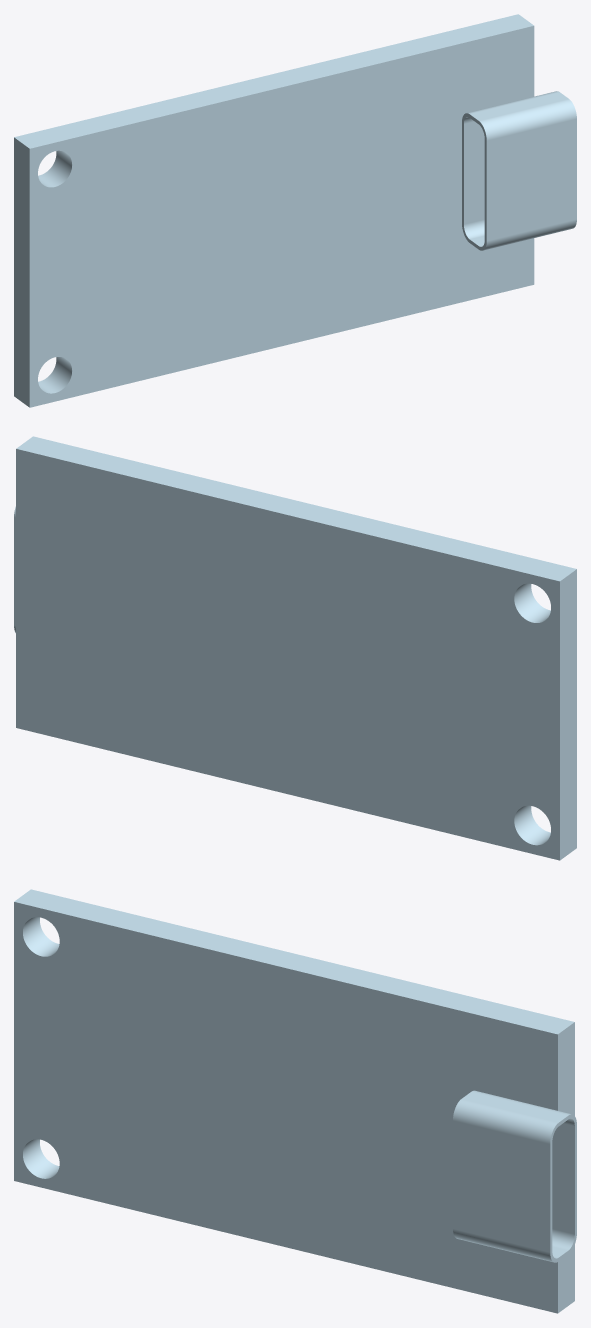
The model's file is usb_c_charger.gltf.
3 renders of one model, top to bottom at view 1: azimuth 30°, elevation 25°; view 2: azimuth 150°, elevation 25°; view 3: azimuth 330°, elevation 25°, orthographic. The views are drawn at different scales.
Parts seen in each view (by area): view 1: mesh1192, mesh1199, mesh1188, mesh1189, mesh1198, mesh1206, mesh1197, mesh1200, mesh1201, mesh1185, mesh1190; view 2: mesh1186, mesh1188, mesh1189, mesh1190, mesh1185; view 3: mesh1192, mesh1199, mesh1188, mesh1206, mesh1198, mesh1191, mesh1197, mesh1200, mesh1185, mesh1190, mesh1202.
Boxes of the visible parts, left/top/right/bottom form: mesh1192: left=29, top=26, right=534, bottom=407; mesh1199: left=486, top=119, right=576, bottom=240; mesh1188: left=14, top=14, right=533, bottom=148; mesh1189: left=14, top=137, right=29, bottom=407; mesh1198: left=479, top=99, right=576, bottom=140; mesh1206: left=464, top=121, right=484, bottom=224; mesh1197: left=470, top=92, right=568, bottom=120; mesh1200: left=483, top=219, right=576, bottom=250; mesh1201: left=462, top=113, right=486, bottom=250; mesh1185: left=38, top=150, right=71, bottom=187; mesh1190: left=38, top=357, right=71, bottom=393; mesh1186: left=16, top=449, right=559, bottom=860; mesh1188: left=16, top=436, right=576, bottom=581; mesh1189: left=560, top=569, right=576, bottom=860; mesh1190: left=514, top=805, right=550, bottom=845; mesh1185: left=514, top=583, right=550, bottom=622; mesh1192: left=14, top=902, right=557, bottom=1313; mesh1199: left=453, top=1120, right=550, bottom=1252; mesh1188: left=14, top=889, right=574, bottom=1034; mesh1206: left=552, top=1123, right=574, bottom=1234; mesh1198: left=453, top=1099, right=558, bottom=1144; mesh1191: left=558, top=1022, right=574, bottom=1313; mesh1197: left=462, top=1092, right=567, bottom=1122; mesh1200: left=453, top=1228, right=553, bottom=1262; mesh1185: left=23, top=917, right=59, bottom=956; mesh1190: left=23, top=1139, right=59, bottom=1178; mesh1202: left=550, top=1114, right=576, bottom=1262.
Bounding box in the file's own units: 0.0382 × 0.0181 × 0.00515.
